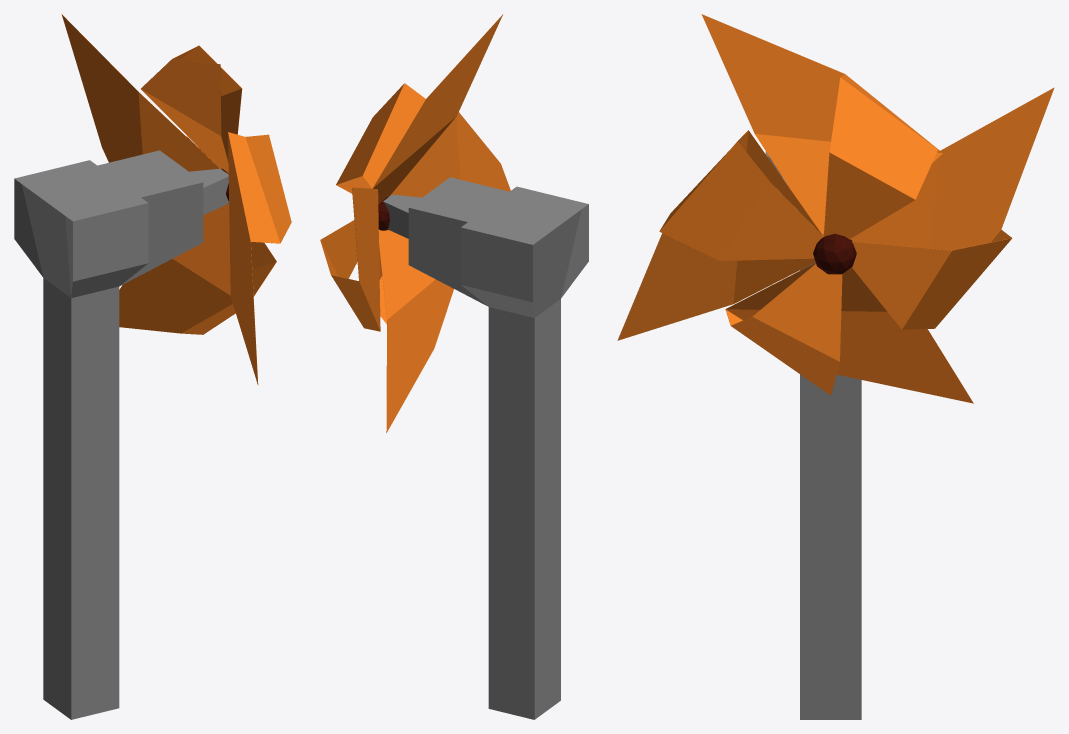
Rendered from Raven_Pinwheel 1.fbx.
3 renders of one model, left to right at view 1: azimuth 30°, elevation 25°; view 2: azimuth 150°, elevation 25°; view 3: azimuth 270°, elevation 25°, orthographic. The views are drawn at different scales.
Parts seen in each view (by area): view 1: Cube, Icosphere; view 2: Cube, Icosphere; view 3: Icosphere, Cube.
Part boxes in pixels (x1,y1,x2,y2): Cube: (14, 150, 229, 719); Icosphere: (61, 14, 291, 385); Cube: (383, 177, 588, 719); Icosphere: (320, 14, 510, 432); Icosphere: (617, 14, 1054, 403); Cube: (765, 151, 861, 719).
Size of the model in its own units: 47.75 by 148 by 79.85.
